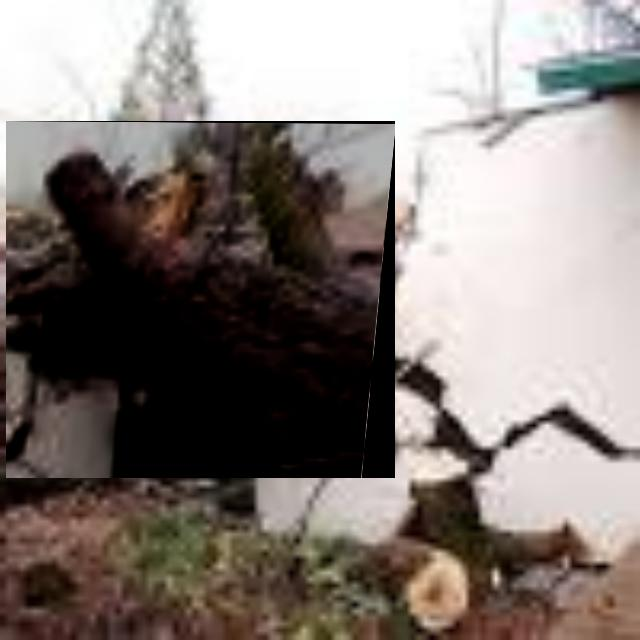Fallen Tree: (6, 121, 396, 479)
